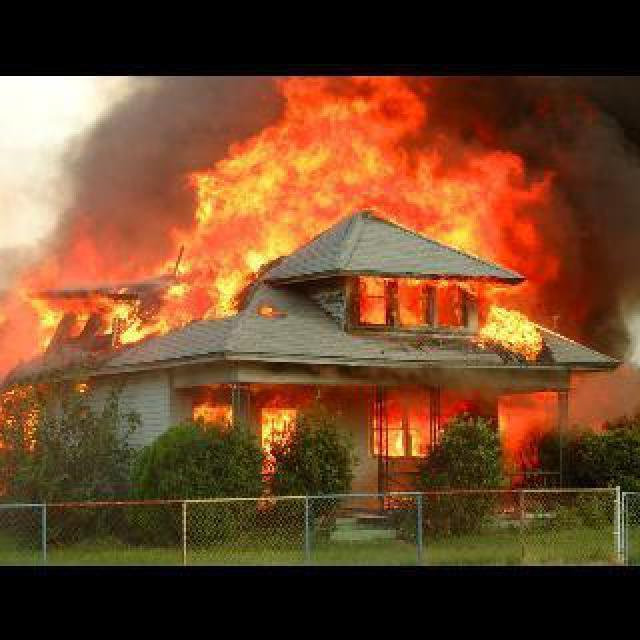Fire: (2, 74, 566, 490)
